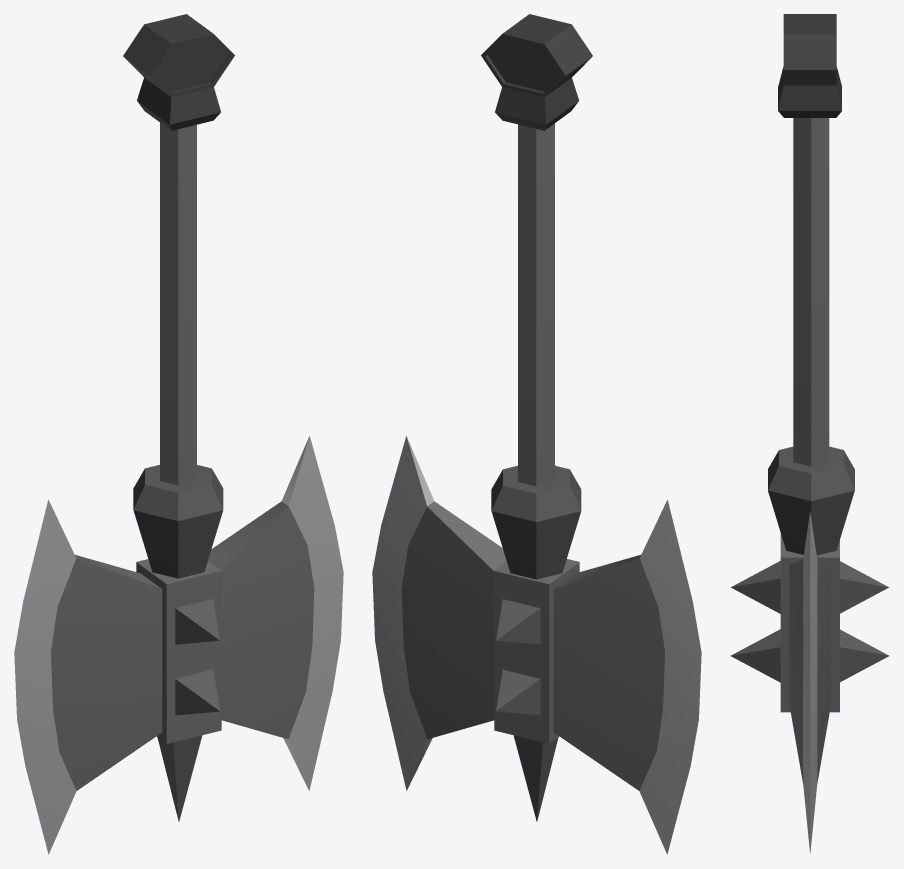
Rendered from Big_Axe.fbx.
The picture shows the model from 3 angles, left to right: view 1: azimuth 30°, elevation 25°; view 2: azimuth 150°, elevation 25°; view 3: azimuth 270°, elevation 25°; orthographic projection. The views are drawn at different scales.
Visible parts, largest first — view 1: Big_Axe; view 2: Big_Axe; view 3: Big_Axe.
Part boxes in pixels (<box>): Big_Axe: <box>14,14,343,854</box>; Big_Axe: <box>372,14,701,854</box>; Big_Axe: <box>730,14,889,853</box>.
Bounding box in the file's own units: 112 × 257 × 48.3.
Materials: 1 (1 with a texture image).
